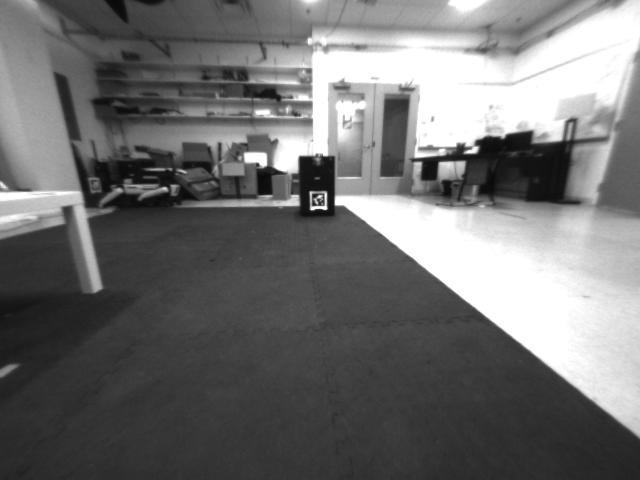door_handle: (360, 143, 371, 152)
drawer: (308, 154, 329, 171)
